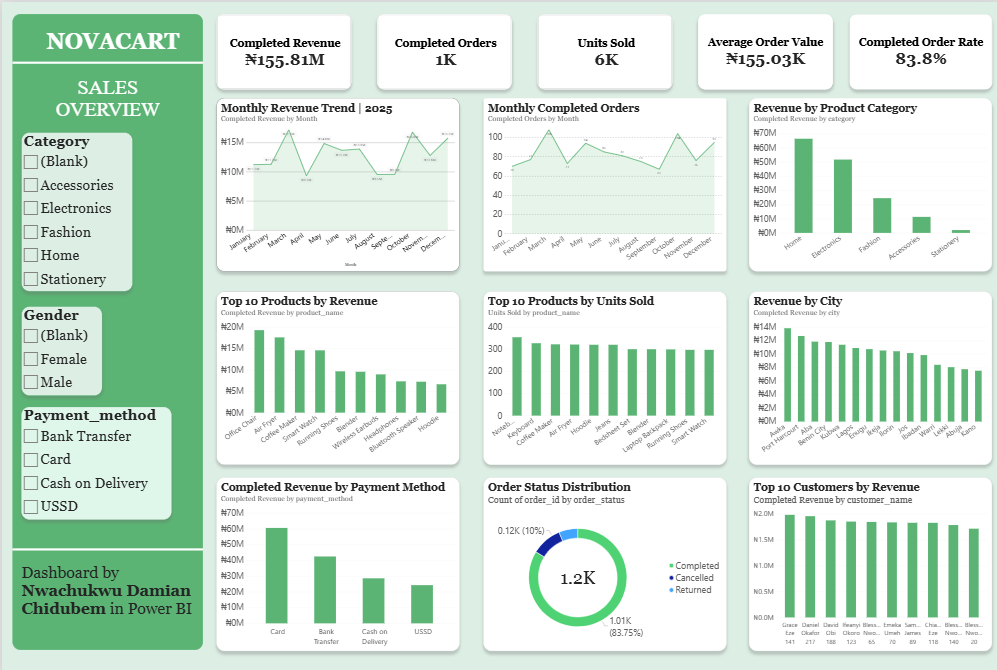

The dashboard page shown, as its layout file describes it:
{"tool":"powerbi","page":{"name":"Sales Overview","canvas":[3700,2500],"ordinal":0},"visuals":[{"type":"cardVisual","fields":{"Data":["Customers.Completed Revenue"]},"box":[795.8,45.2,500,280],"z":0},{"type":"cardVisual","fields":{"Data":["Orders.Completed Orders"]},"box":[1388.1,45.2,500,280],"z":1000},{"type":"cardVisual","fields":{"Data":["Orders.Units Sold"]},"box":[1984.9,45.2,500,280],"z":2000},{"type":"lineChart","title":"Monthly Revenue Trend | 2025","fields":{"Category":["Orders.order_date.Variation.Date Hierarchy.Month"],"Y":["Customers.Completed Revenue"]},"box":[795.8,357.2,900,642],"z":3000},{"type":"clusteredColumnChart","title":"Top 10 Products by Revenue","fields":{"Category":["Products.product_name"],"Y":["Customers.Completed Revenue"]},"box":[795.8,1071.6,900,642],"z":4000},{"type":"donutChart","title":"Order Status Distribution","fields":{"Category":["Orders.order_status"],"Y":["CountNonNull(Orders.order_id)"]},"box":[1781.4,1758.8,900,642.5],"z":5000},{"type":"clusteredColumnChart","title":"Completed Revenue by Payment Method","fields":{"Category":["Orders.payment_method"],"Y":["Customers.Completed Revenue"]},"box":[795.8,1758.8,900,642.5],"z":6000},{"type":"cardVisual","fields":{"Data":["Customers.Average Order Value"]},"box":[2577.2,45.2,500,280],"z":7000},{"type":"cardVisual","fields":{"Data":["Customers.Completed Order Rate"]},"box":[3137.8,45.2,529,280.3],"z":8000},{"type":"clusteredColumnChart","title":"Top 10 Customers by Revenue","fields":{"Category":["Customers.customer_name"],"Y":["Customers.Completed Revenue"]},"box":[2767.1,1758.8,900,642.5],"z":9000},{"type":"clusteredColumnChart","title":"Revenue by City","fields":{"Category":["Customers.city"],"Y":["Customers.Completed Revenue"]},"box":[2767.1,1071.6,900,642],"z":10000},{"type":"clusteredColumnChart","title":"Top 10 Products by Units Sold","fields":{"Category":["Products.product_name"],"Y":["Orders.Units Sold"]},"box":[1781.4,1071.6,900,642],"z":11000},{"type":"clusteredColumnChart","title":"Revenue by Product Category","fields":{"Category":["Products.category"],"Y":["Customers.Completed Revenue"]},"box":[2767.1,357.2,900,642],"z":12000},{"type":"lineChart","title":"Monthly Completed Orders","fields":{"Category":["Orders.order_date.Variation.Date Hierarchy.Month","Orders.order_date.Variation.Date Hierarchy.Day"],"Y":["Orders.Completed Orders"]},"box":[1781.4,357.2,900,642],"z":13000},{"type":"textbox","box":[40.7,45.2,705.3,2355.6],"z":14000},{"type":"textbox","title":"NOVACART","box":[117.6,99.5,587.8,126.6],"z":15000},{"type":"shape","box":[40.7,140.2,705.3,171.8],"z":16000},{"type":"textbox","title":"SALES OVERVIEW","box":[90.4,271.3,605.9,176.3],"z":17000},{"type":"slicer","fields":{"Values":["Products.category"]},"box":[72.3,483.8,411.4,587.8],"z":18000},{"type":"slicer","fields":{"Values":["Customers.gender"]},"box":[72.3,1130.3,298.4,330.1],"z":19000},{"type":"shape","box":[38.9,1977.8,705.3,99.5],"z":20000},{"type":"slicer","fields":{"Values":["Orders.payment_method"]},"box":[72.2,1500,555.6,416.7],"z":20001},{"type":"textbox","box":[72.2,2077.8,633.3,300],"z":20002}]}

Visuals, with their boxes in screenshot pixels (x1, y1, x2, y2), scaled from the page's 3700x2500 canvas onto the 997x670 screenshot:
cardVisual - Customers.Completed Revenue: [x1=214, y1=12, x2=349, y2=87]
cardVisual - Orders.Completed Orders: [x1=374, y1=12, x2=509, y2=87]
cardVisual - Orders.Units Sold: [x1=535, y1=12, x2=670, y2=87]
"Monthly Revenue Trend | 2025" lineChart: [x1=214, y1=96, x2=457, y2=268]
"Top 10 Products by Revenue" clusteredColumnChart: [x1=214, y1=287, x2=457, y2=459]
"Order Status Distribution" donutChart: [x1=480, y1=471, x2=723, y2=644]
"Completed Revenue by Payment Method" clusteredColumnChart: [x1=214, y1=471, x2=457, y2=644]
cardVisual - Customers.Average Order Value: [x1=694, y1=12, x2=829, y2=87]
cardVisual - Customers.Completed Order Rate: [x1=846, y1=12, x2=988, y2=87]
"Top 10 Customers by Revenue" clusteredColumnChart: [x1=746, y1=471, x2=988, y2=644]
"Revenue by City" clusteredColumnChart: [x1=746, y1=287, x2=988, y2=459]
"Top 10 Products by Units Sold" clusteredColumnChart: [x1=480, y1=287, x2=723, y2=459]
"Revenue by Product Category" clusteredColumnChart: [x1=746, y1=96, x2=988, y2=268]
"Monthly Completed Orders" lineChart: [x1=480, y1=96, x2=723, y2=268]
textbox: [x1=11, y1=12, x2=201, y2=643]
"NOVACART" textbox: [x1=32, y1=27, x2=190, y2=61]
shape: [x1=11, y1=38, x2=201, y2=84]
"SALES OVERVIEW" textbox: [x1=24, y1=73, x2=188, y2=120]
slicer - Products.category: [x1=19, y1=130, x2=130, y2=287]
slicer - Customers.gender: [x1=19, y1=303, x2=100, y2=391]
shape: [x1=10, y1=530, x2=201, y2=557]
slicer - Orders.payment_method: [x1=19, y1=402, x2=169, y2=514]
textbox: [x1=19, y1=557, x2=190, y2=637]
